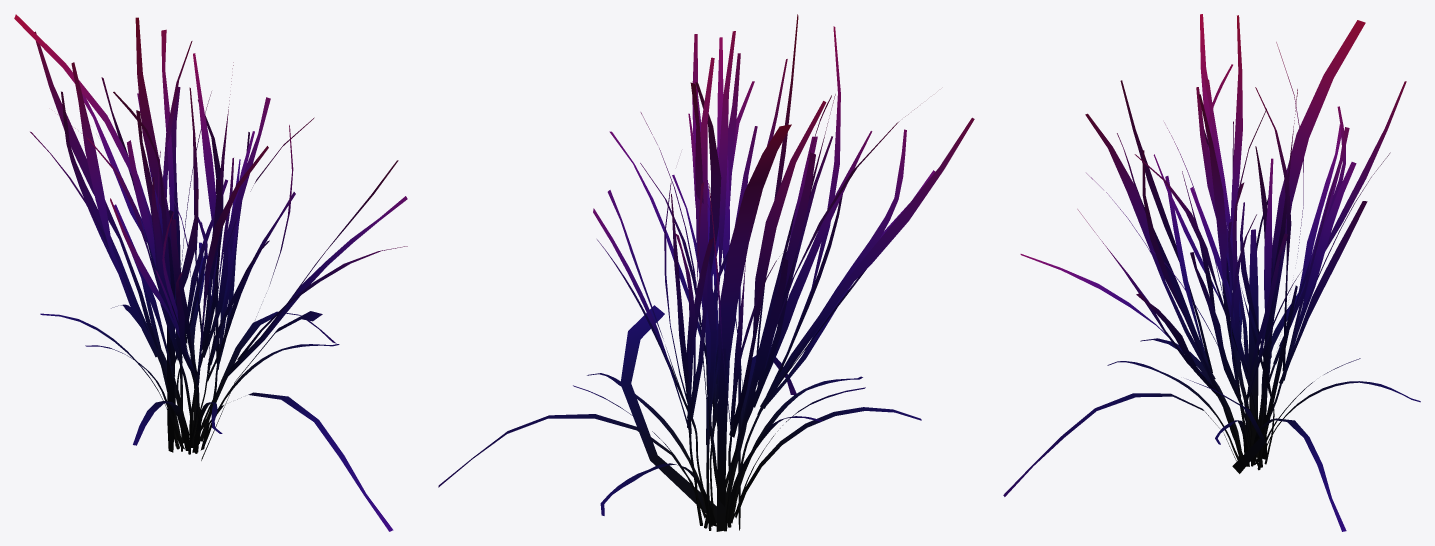
Rendered from Aquatic plantsB.fbx.
The picture shows the model from 3 angles, left to right: view 1: azimuth 30°, elevation 25°; view 2: azimuth 150°, elevation 25°; view 3: azimuth 270°, elevation 25°; orthographic projection. The views are drawn at different scales.
Parts seen in each view (by area): view 1: Aquatic plants02; view 2: Aquatic plants02; view 3: Aquatic plants02.
Part boxes in pixels (x1=…): Aquatic plants02: x1=14, y1=14, x2=407, y2=531; Aquatic plants02: x1=438, y1=14, x2=974, y2=531; Aquatic plants02: x1=1003, y1=14, x2=1420, y2=531.
Bounding box in the file's own units: 474 × 576 × 508.
